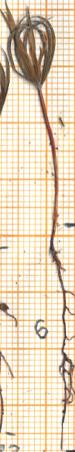flower: (1, 0, 64, 89)
root: (45, 226, 75, 452)
stem: (34, 89, 62, 228)
